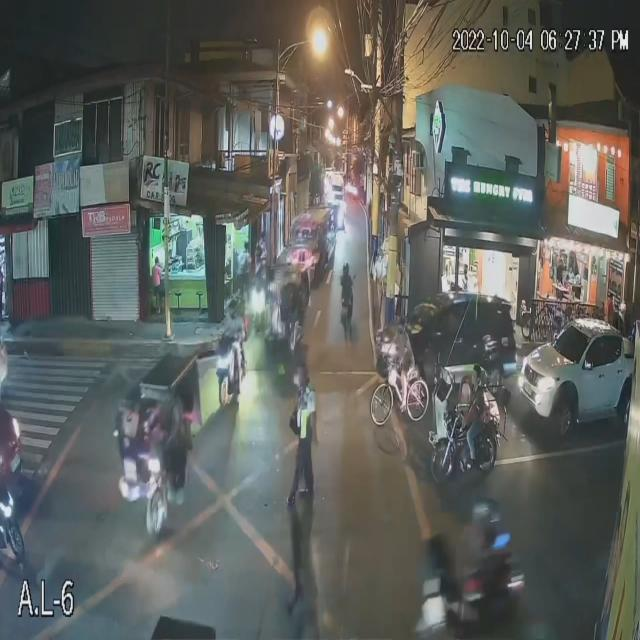Full-Faced: (470, 492, 499, 537), (229, 297, 241, 321), (339, 258, 351, 277)
